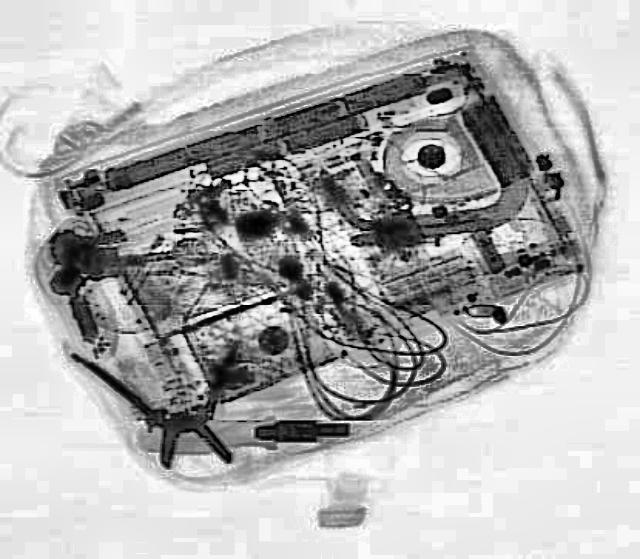Pliers: (68, 323, 266, 483)
